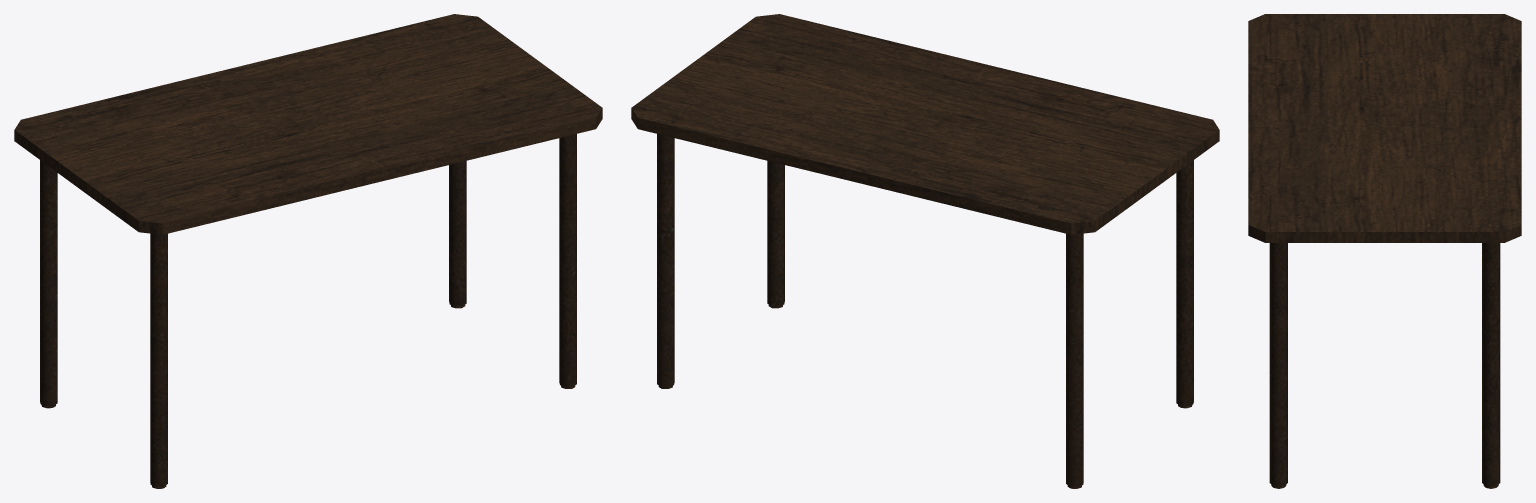
The model's file is table_large_1_1.fbx.
3 views of the same model, side by side, from view 1: azimuth 30°, elevation 25°; view 2: azimuth 150°, elevation 25°; view 3: azimuth 270°, elevation 25° (orthographic). The views are drawn at different scales.
Visible parts, largest first — view 1: table_large_1_1; view 2: table_large_1_1; view 3: table_large_1_1.
Part boxes in pixels (x1=…): table_large_1_1: x1=14, y1=14, x2=602, y2=488; table_large_1_1: x1=631, y1=14, x2=1219, y2=488; table_large_1_1: x1=1248, y1=14, x2=1521, y2=488.
Bounding box in the file's own units: 1.7 × 0.9 × 0.97.
